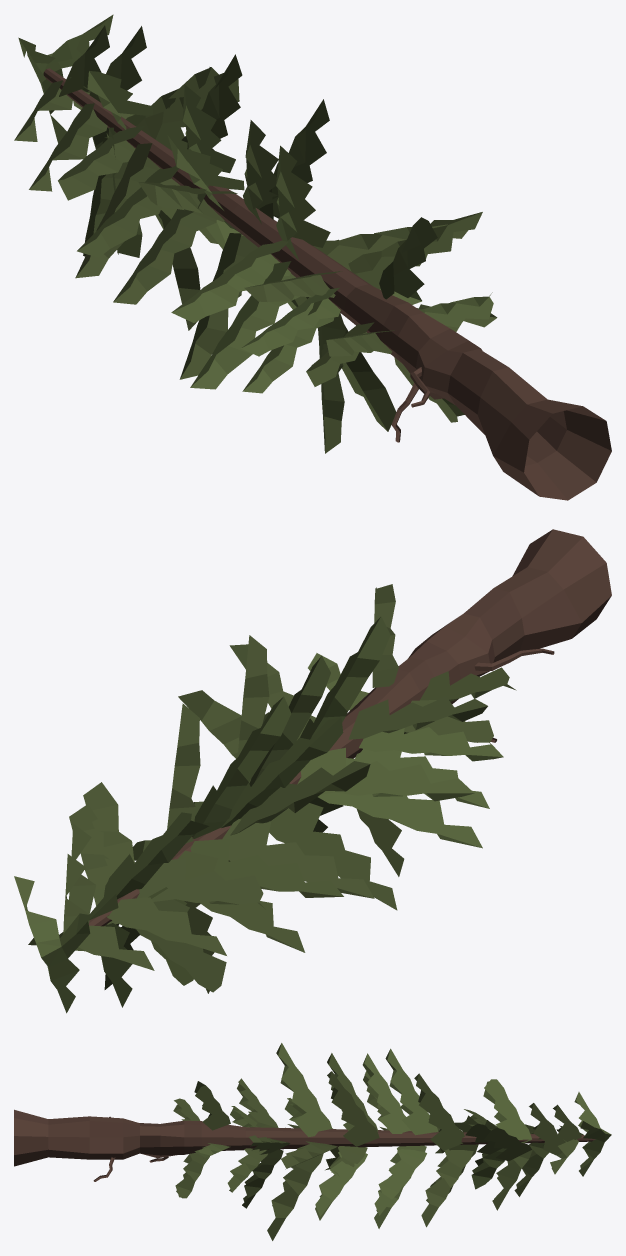
File: Tree Type0 03.glb
3 renders of one model, top to bottom at view 1: azimuth 30°, elevation 25°; view 2: azimuth 150°, elevation 25°; view 3: azimuth 270°, elevation 25°, orthographic. The views are drawn at different scales.
Parts seen in each view (by area): view 1: Tree Type0 03_mesh; view 2: Tree Type0 03_mesh; view 3: Tree Type0 03_mesh.
Part boxes in pixels (<box>): Tree Type0 03_mesh: <box>14,14,611,500</box>; Tree Type0 03_mesh: <box>14,529,611,1013</box>; Tree Type0 03_mesh: <box>14,1043,611,1240</box>.
Size of the model in its own units: 2.78 by 2.69 by 8.47.
Materials: 1 (1 with a texture image).
